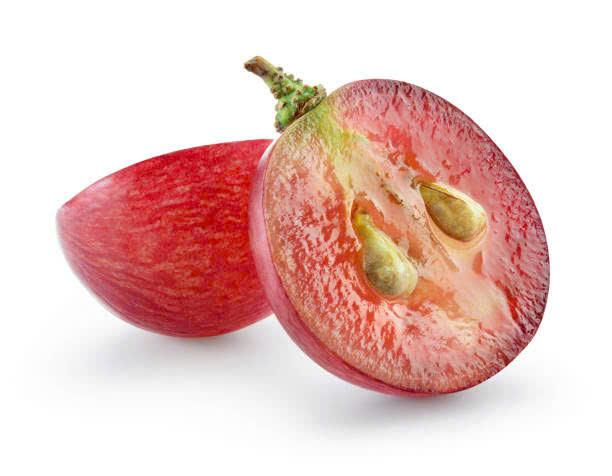grape: (258, 61, 564, 398), (33, 125, 264, 334)
